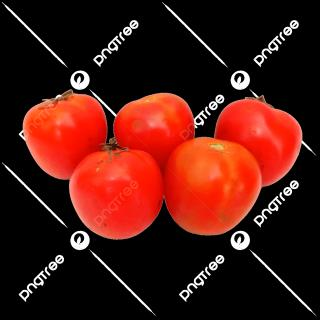Tomat: (164, 137, 263, 237), (69, 138, 165, 241), (215, 95, 304, 188), (23, 90, 108, 181), (114, 93, 196, 174)
